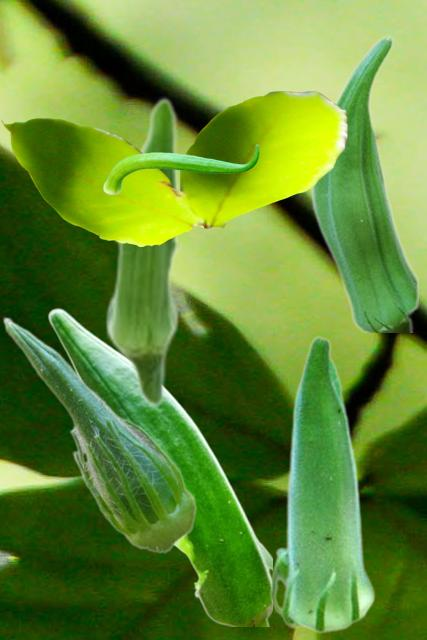okra: (47, 308, 271, 625), (2, 316, 196, 552), (310, 34, 417, 331), (269, 335, 375, 633), (104, 96, 180, 407), (103, 144, 258, 193)
